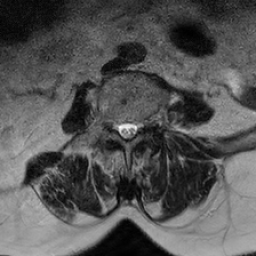CCS_normal: (123, 114, 130, 147)
LFS_normal: (139, 113, 147, 138)
LLS_normal: (130, 114, 138, 142)
RFS_normal: (108, 113, 116, 137)
RLS_normal: (116, 115, 123, 142)
